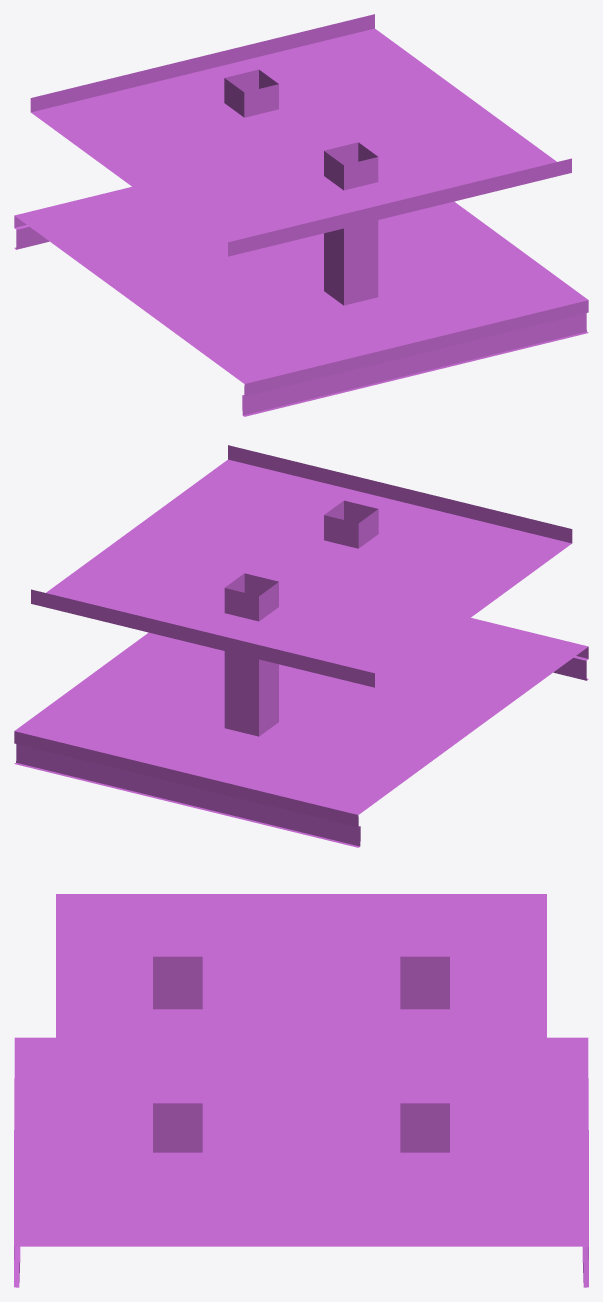
The model's file is PlatformBetween.fbx.
3 renders of one model, top to bottom at view 1: azimuth 30°, elevation 25°; view 2: azimuth 150°, elevation 25°; view 3: azimuth 270°, elevation 25°, orthographic. The views are drawn at different scales.
Parts seen in each view (by area): view 1: PLatformBetween; view 2: PLatformBetween; view 3: PLatformBetween.
Boxes of the visible parts, x1,y1,x2,y2 form: PLatformBetween: (14,14,588,416); PLatformBetween: (14,445,588,847); PLatformBetween: (14,894,588,1287).
Size of the model in its own units: 10 by 4.81 by 11.62.
